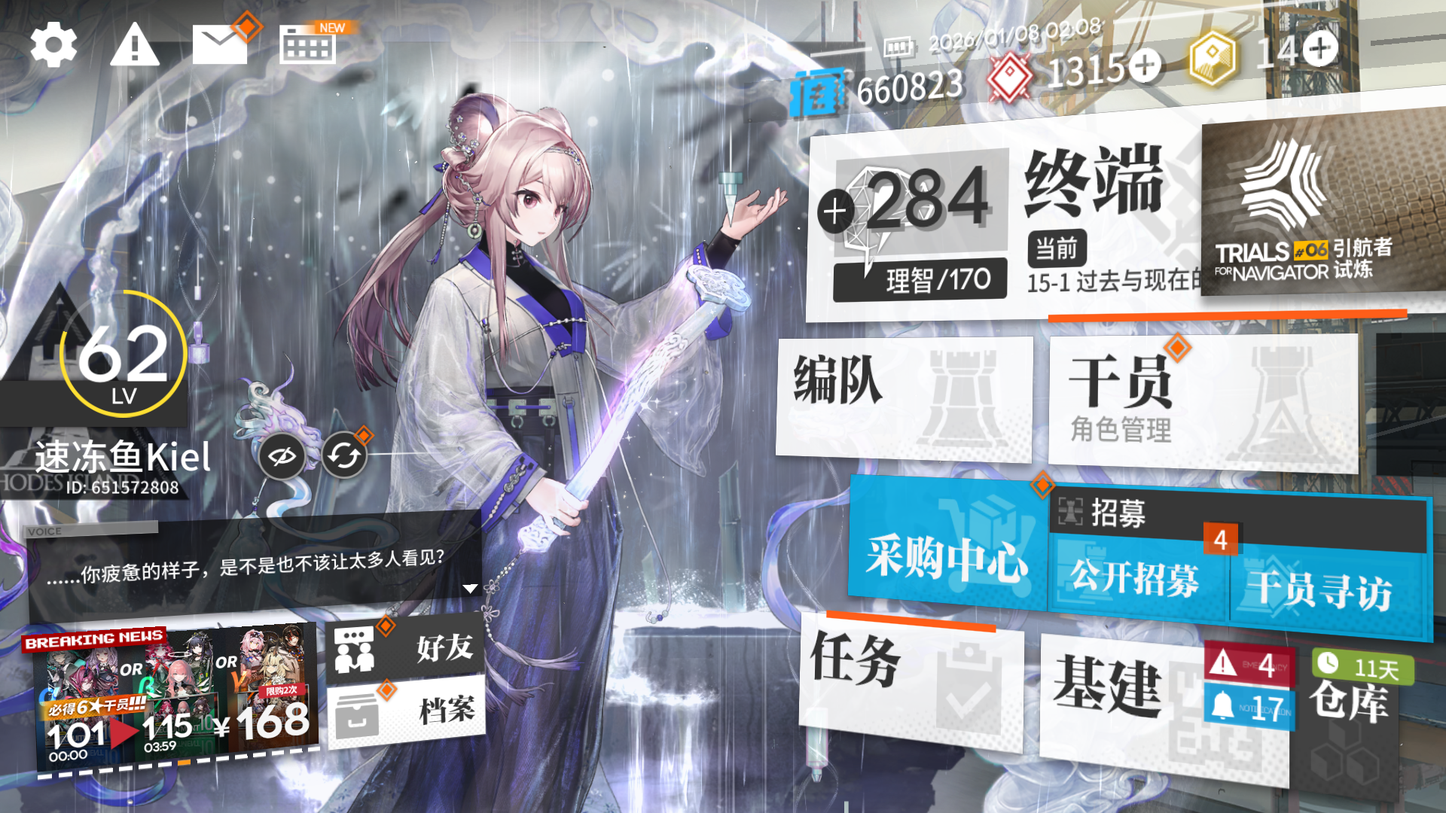home_button: (1018, 132, 1211, 253)
infrastructure_button: (1049, 637, 1230, 748)
